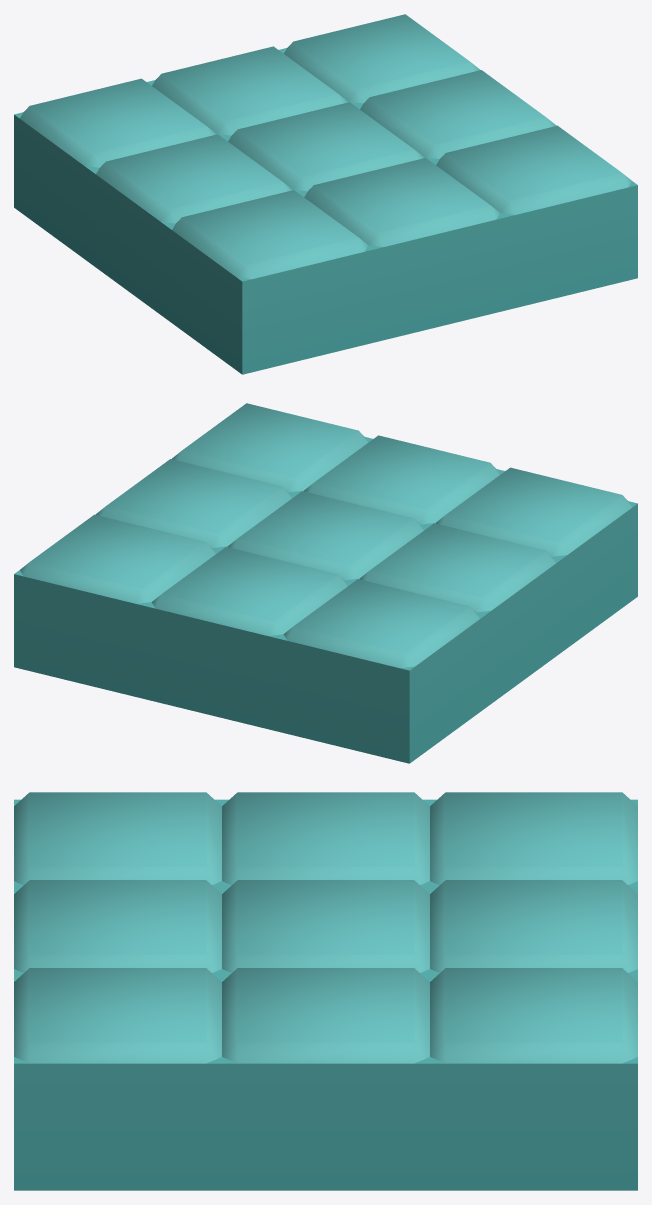
File: Floor Tiled.glb
The picture shows the model from 3 angles, top to bottom: view 1: azimuth 30°, elevation 25°; view 2: azimuth 150°, elevation 25°; view 3: azimuth 270°, elevation 25°; orthographic projection. The views are drawn at different scales.
Visible parts, largest first — view 1: floor_tiled; view 2: floor_tiled; view 3: floor_tiled.
Part boxes in pixels (<box>): floor_tiled: <box>14,14,637,374</box>; floor_tiled: <box>14,403,637,763</box>; floor_tiled: <box>14,792,637,1190</box>.
Size of the model in its own units: 2 by 0.5 by 2.
1 material, 1 textured.
